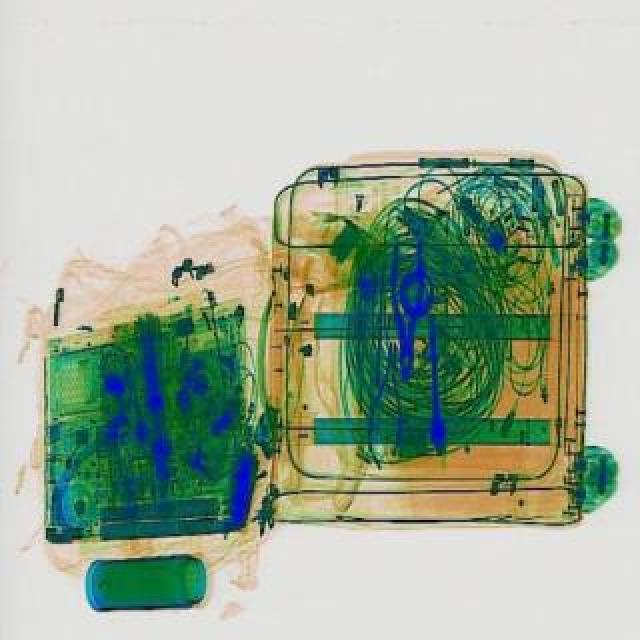wrench: (386, 238, 424, 376), (366, 340, 410, 456)
